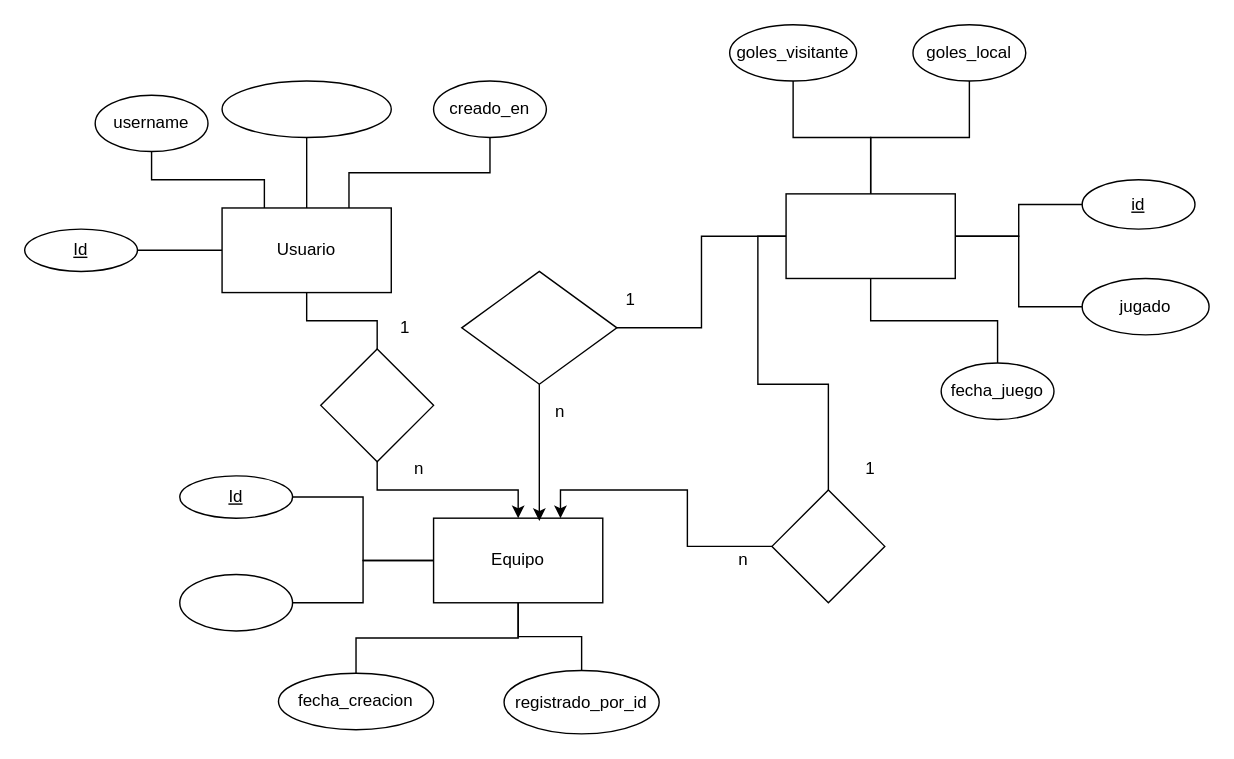
Image size: 1234x759. Some labels were removed from this diagram. Here are the shapes that lost their labels. From the top down, the centre of each, then its label:
(306,108): hashed_password
(870,235): Partido
(538,327): juega_visitante
(376,405): registra
(828,546): juega_local
(235,602): nombre
